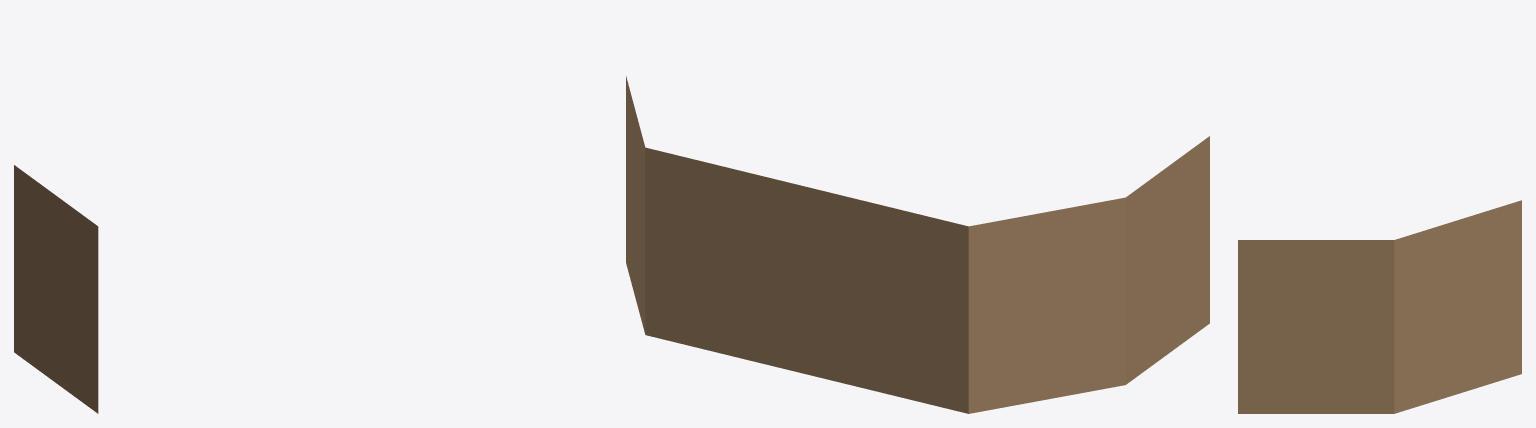
The model's file is 1316-Buildings-shell-pieces-facade-bay-wall-round-an-opening-reveals-sill-head-emitBa.glb.
3 views of the same model, side by side, from view 1: azimuth 30°, elevation 25°; view 2: azimuth 150°, elevation 25°; view 3: azimuth 270°, elevation 25° (orthographic). The views are drawn at different scales.
Visible parts, largest first — view 1: emitBay; view 2: emitBay; view 3: emitBay.
Part boxes in pixels (x1=…): emitBay: x1=14, y1=165, x2=98, y2=413; emitBay: x1=626, y1=76, x2=1209, y2=413; emitBay: x1=1238, y1=200, x2=1521, y2=413.
Bounding box in the file's own units: 8.5 × 3.05 × 4.51.
